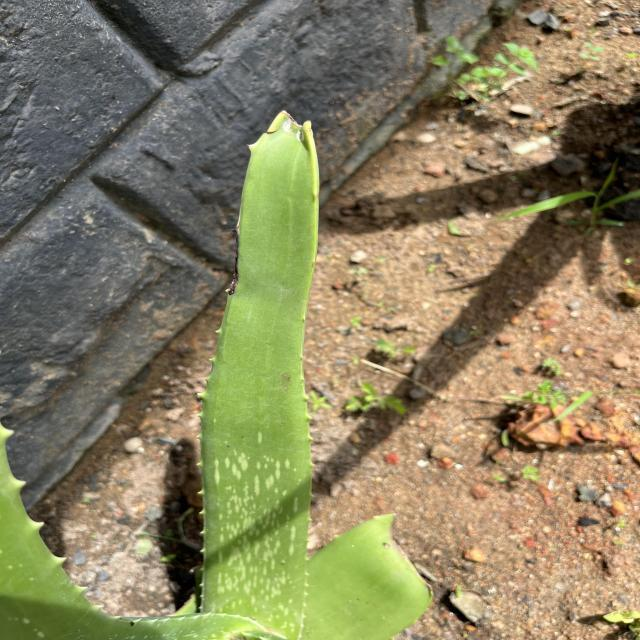Aloe vera: (186, 103, 332, 624)
